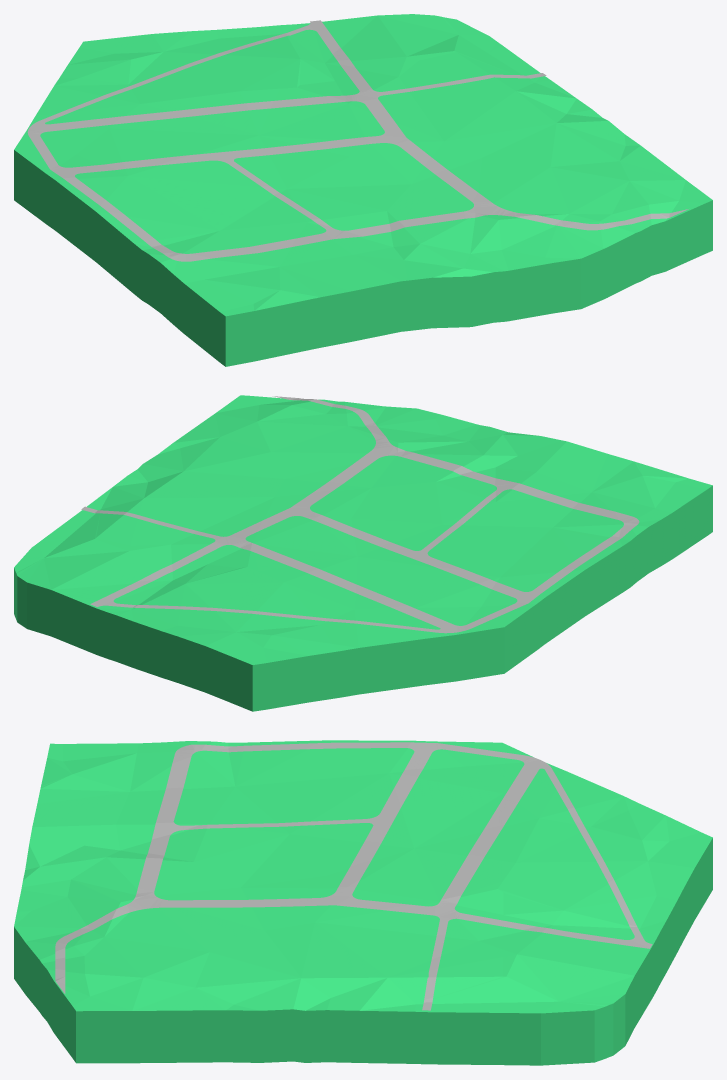
The picture shows the model from 3 angles, top to bottom: view 1: azimuth 30°, elevation 25°; view 2: azimuth 150°, elevation 25°; view 3: azimuth 270°, elevation 25°; orthographic projection. The views are drawn at different scales.
Parts seen in each view (by area): view 1: 335751, 336132; view 2: 335751, 336132; view 3: 335751, 336132.
Boxes of the visible parts, left/top/right/bottom form: 335751: left=14, top=14, right=712, bottom=366; 336132: left=27, top=20, right=688, bottom=261; 335751: left=14, top=395, right=712, bottom=711; 336132: left=81, top=396, right=639, bottom=633; 335751: left=14, top=740, right=712, bottom=1065; 336132: left=55, top=742, right=652, bottom=1010.
Bounding box in the file's own units: 341 × 48.39 × 398.
